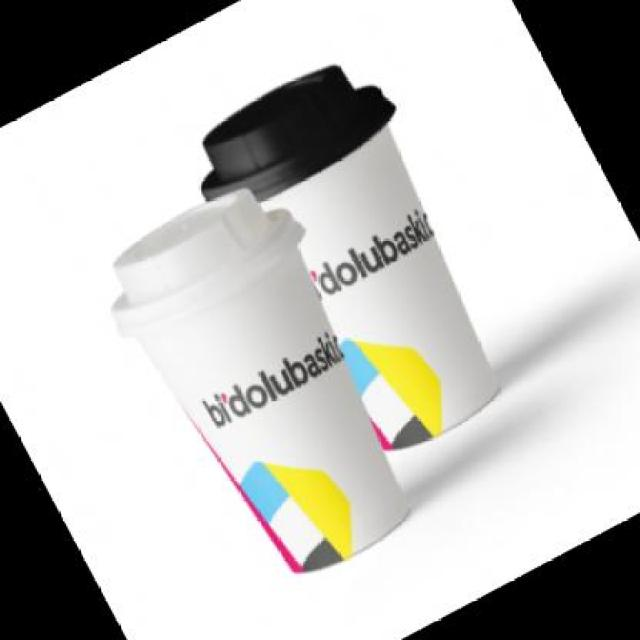non-biodegradable: (83, 160, 460, 634)
